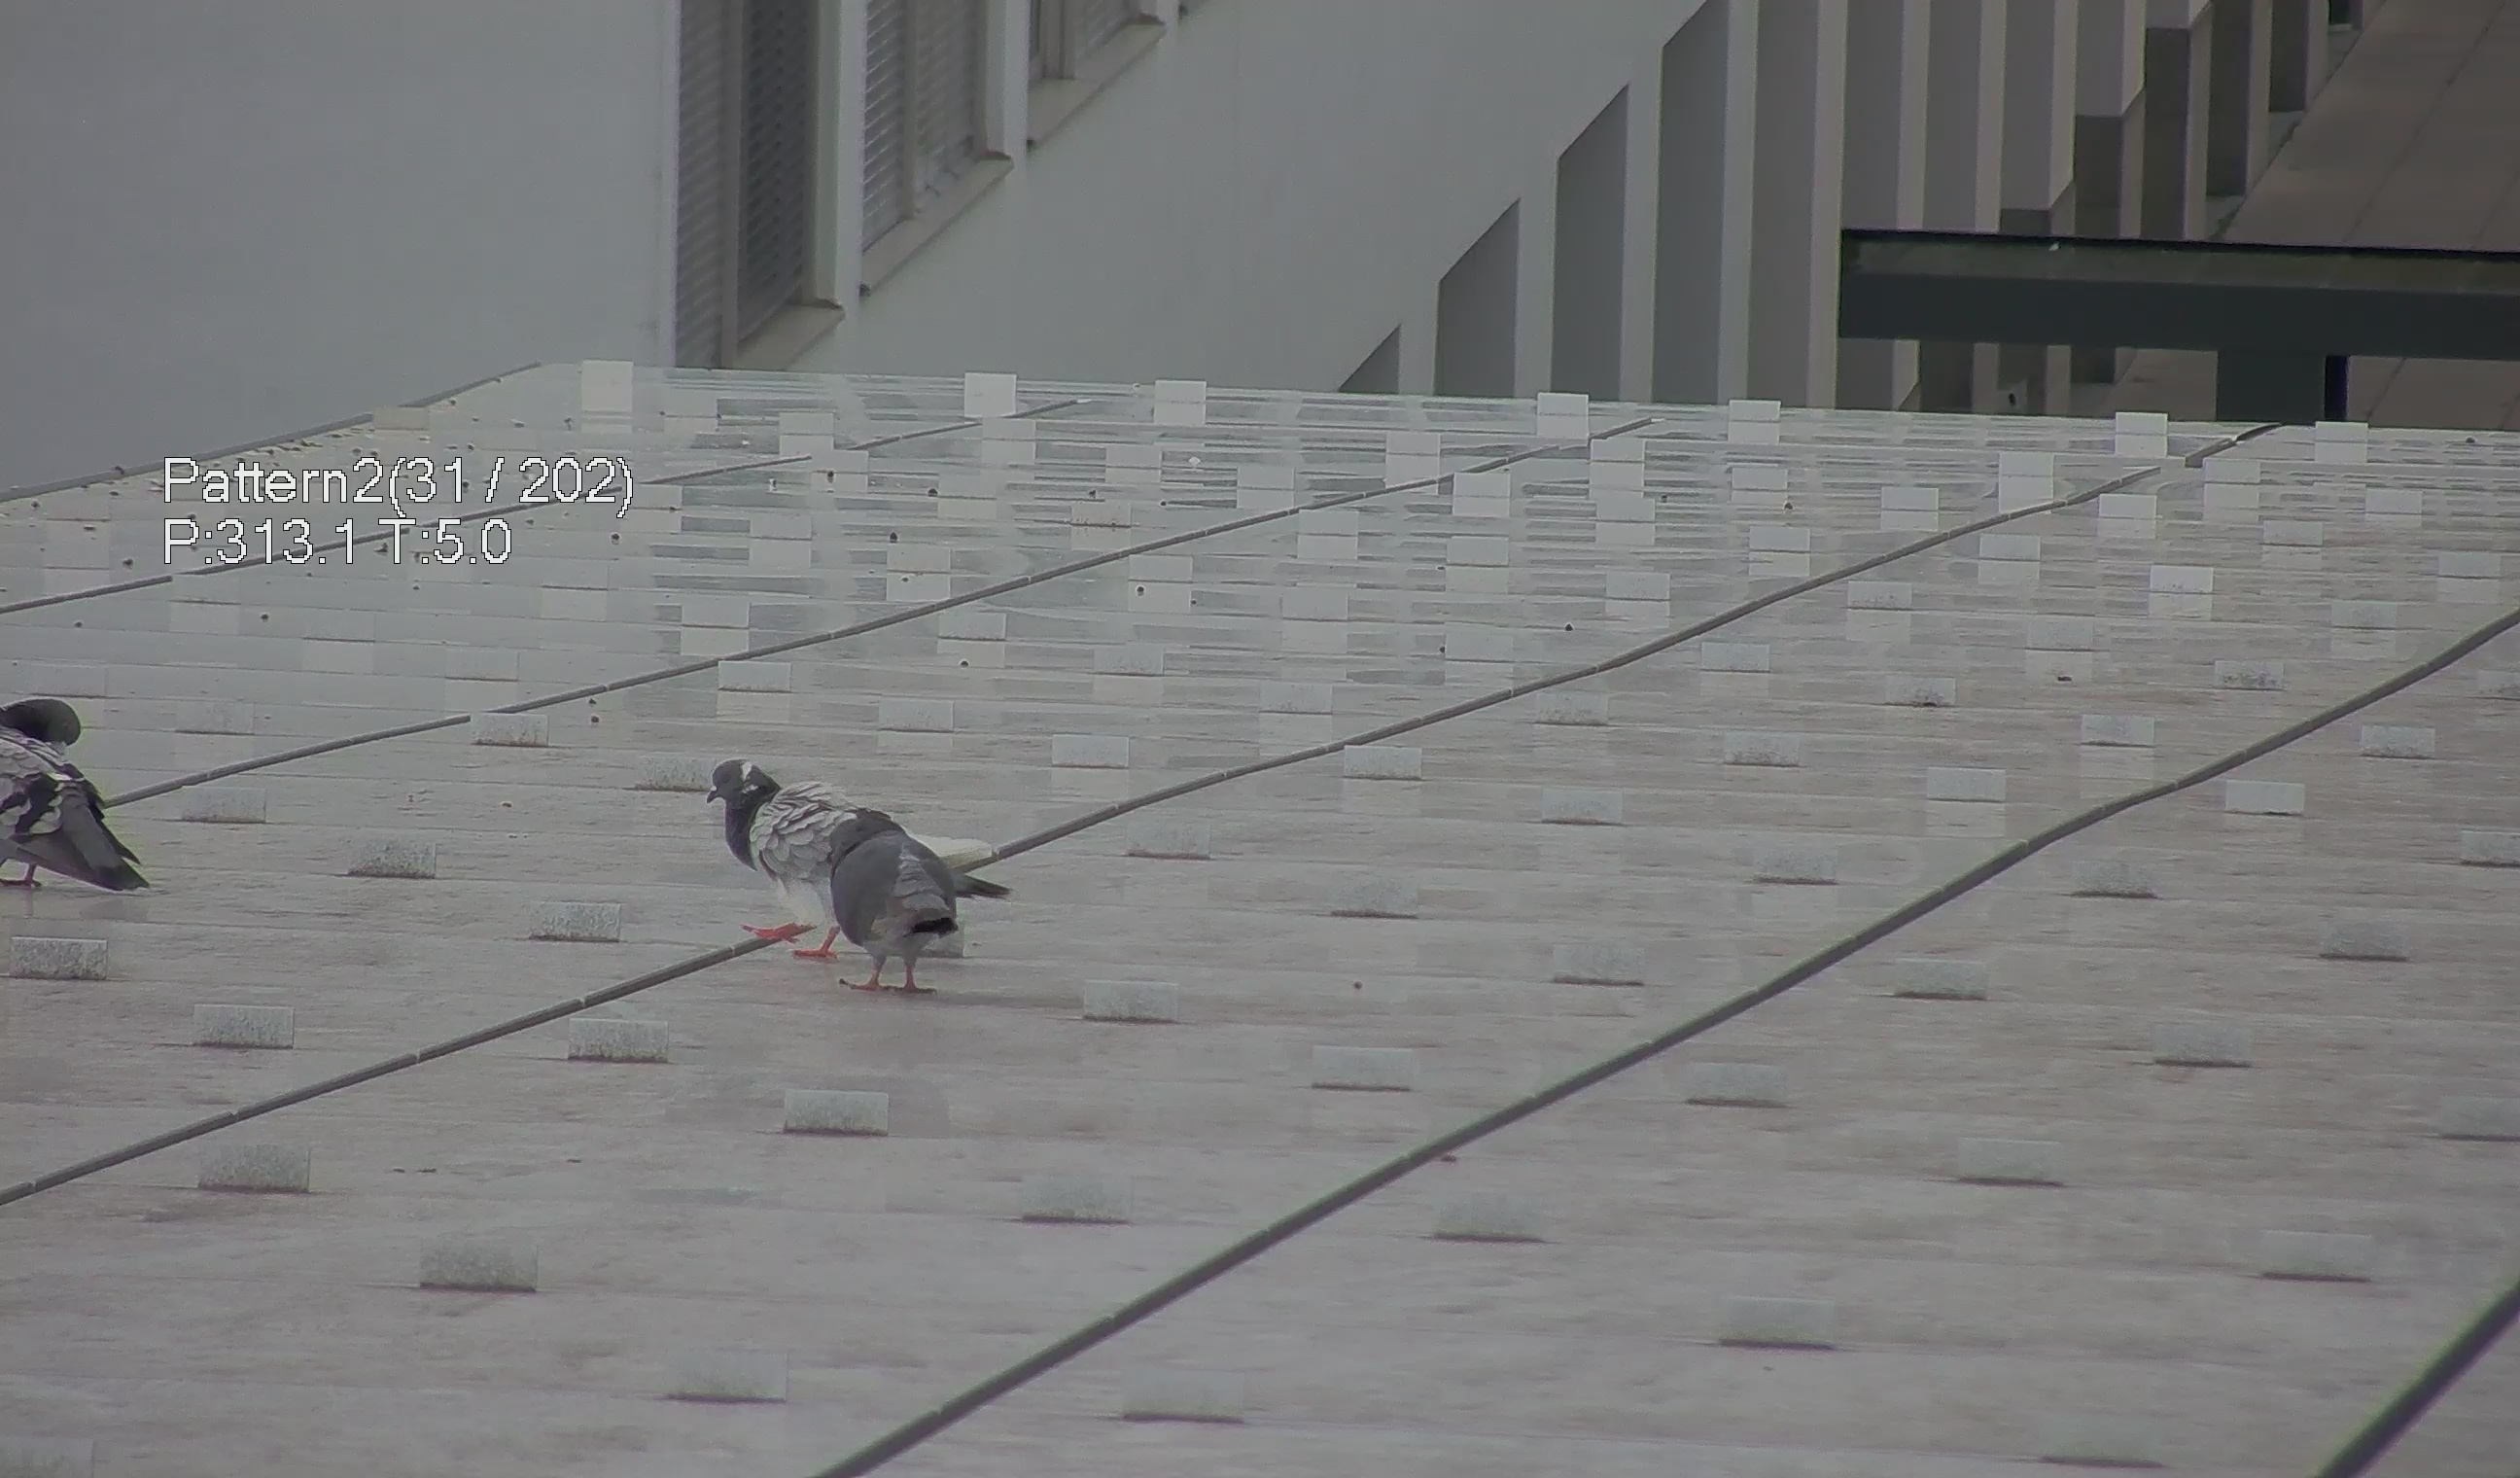Pigeon: (679, 762, 1009, 996), (768, 802, 1001, 1005), (0, 699, 169, 903)
